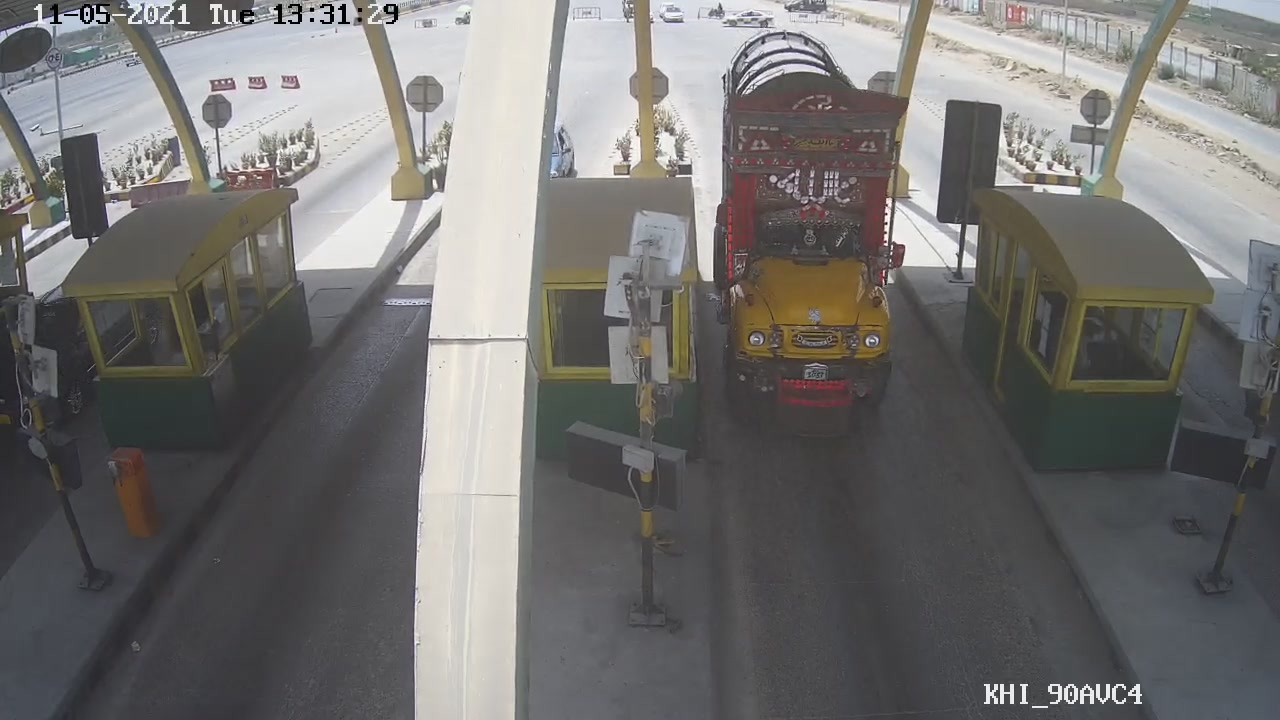F5: (705, 29, 915, 444)
